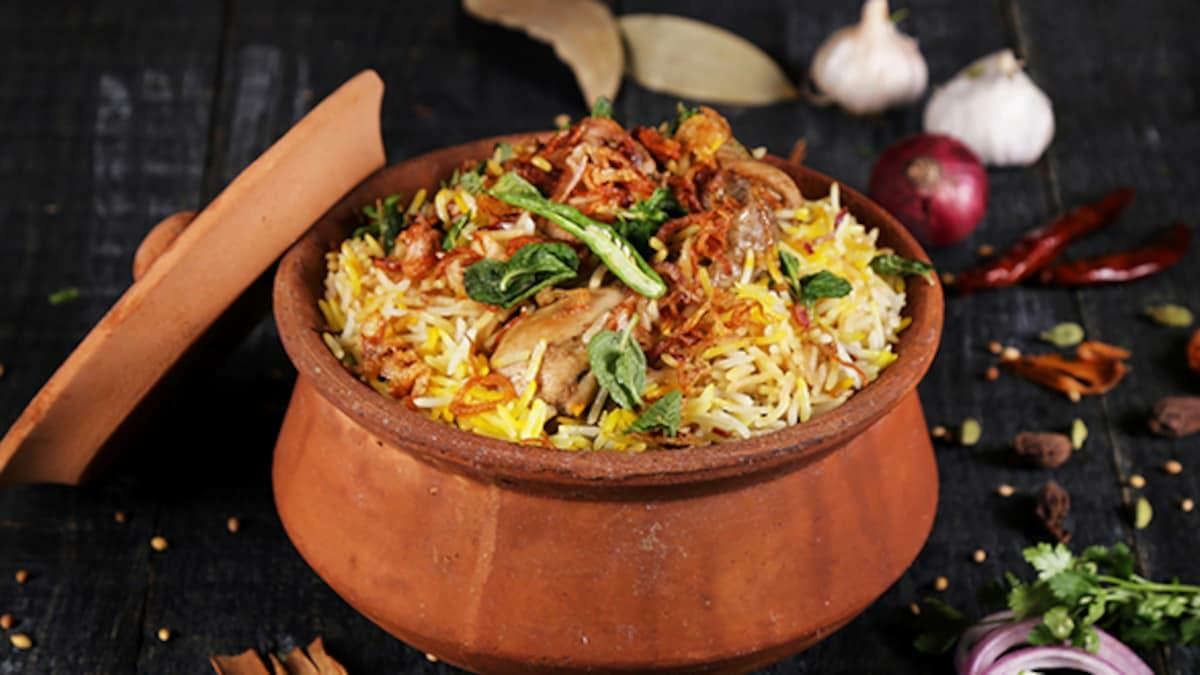Biryani: (321, 104, 932, 455)
